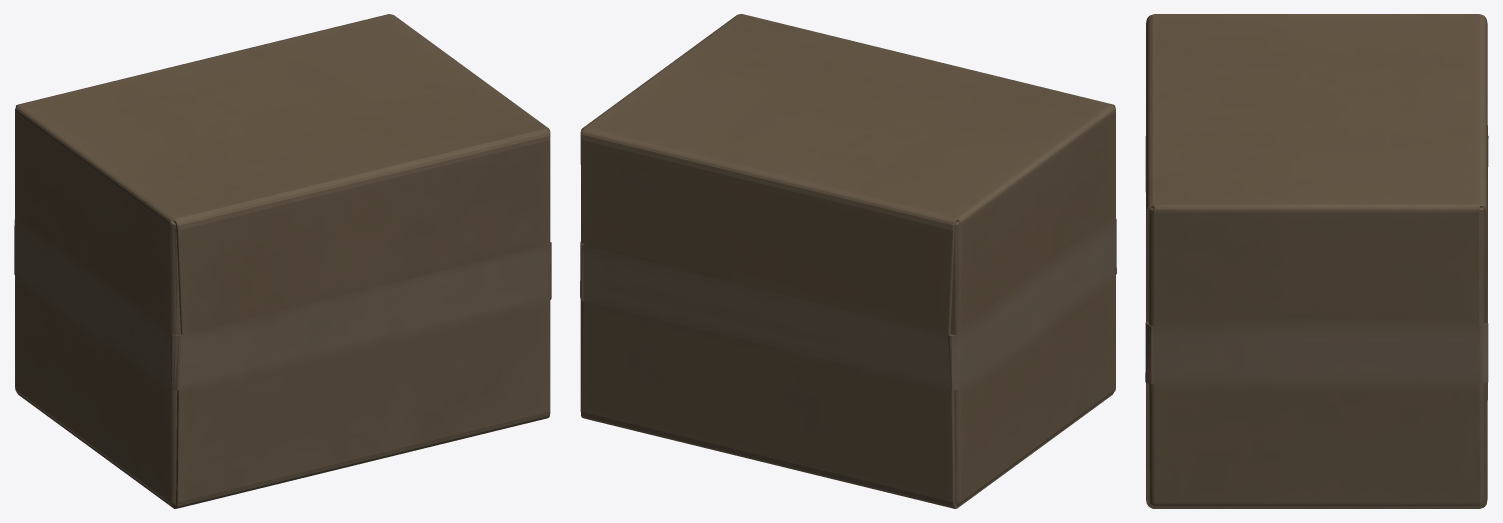
The model's file is box_cardboard_a01.glb.
3 views of the same model, side by side, from view 1: azimuth 30°, elevation 25°; view 2: azimuth 150°, elevation 25°; view 3: azimuth 270°, elevation 25° (orthographic). The views are drawn at different scales.
Visible parts, largest first — view 1: geometry_0; view 2: geometry_0; view 3: geometry_0.
Boxes of the visible parts, left/top/right/bottom form: geometry_0: left=14, top=14, right=551, bottom=508; geometry_0: left=580, top=14, right=1116, bottom=508; geometry_0: left=1145, top=14, right=1488, bottom=508.
Bounding box in the file's own units: 0.42 × 0.3062 × 0.3129.
1 material, 1 textured.
